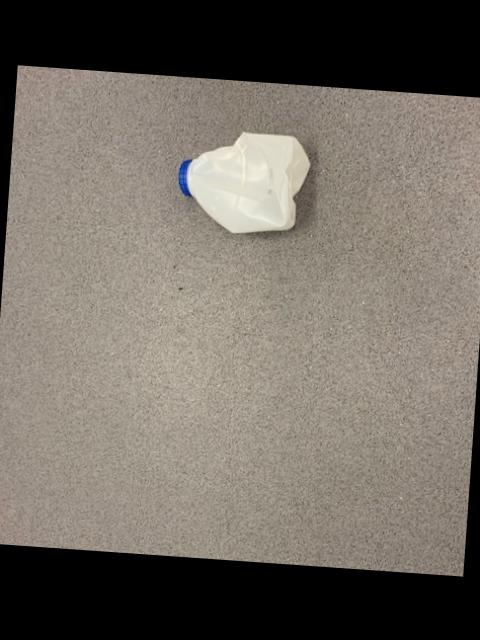plastic: (177, 133, 308, 233)
